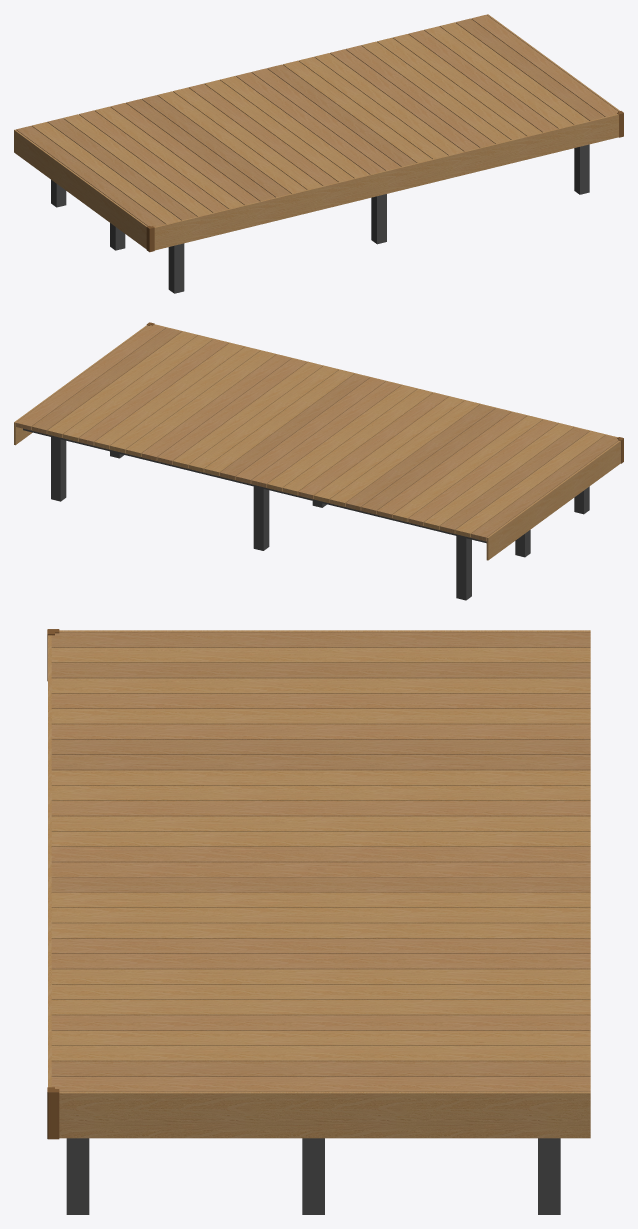
File: ecowoodrealdeck_550-2k-6s_amber3.fbx
3 views of the same model, one above another, from view 1: azimuth 30°, elevation 25°; view 2: azimuth 150°, elevation 25°; view 3: azimuth 270°, elevation 25° (orthographic). The views are drawn at different scales.
Visible parts, largest first — view 1: ecowoodrealdeck_550-2k-6s_umber; view 2: ecowoodrealdeck_550-2k-6s_umber; view 3: ecowoodrealdeck_550-2k-6s_umber.
Part boxes in pixels (left/top/right/bottom): ecowoodrealdeck_550-2k-6s_umber: left=14, top=14, right=623, bottom=293; ecowoodrealdeck_550-2k-6s_umber: left=14, top=322, right=623, bottom=600; ecowoodrealdeck_550-2k-6s_umber: left=47, top=629, right=590, bottom=1214.
Size of the model in its own units: 363 by 55.4 by 180.
Materials: 6 (5 with a texture image).
